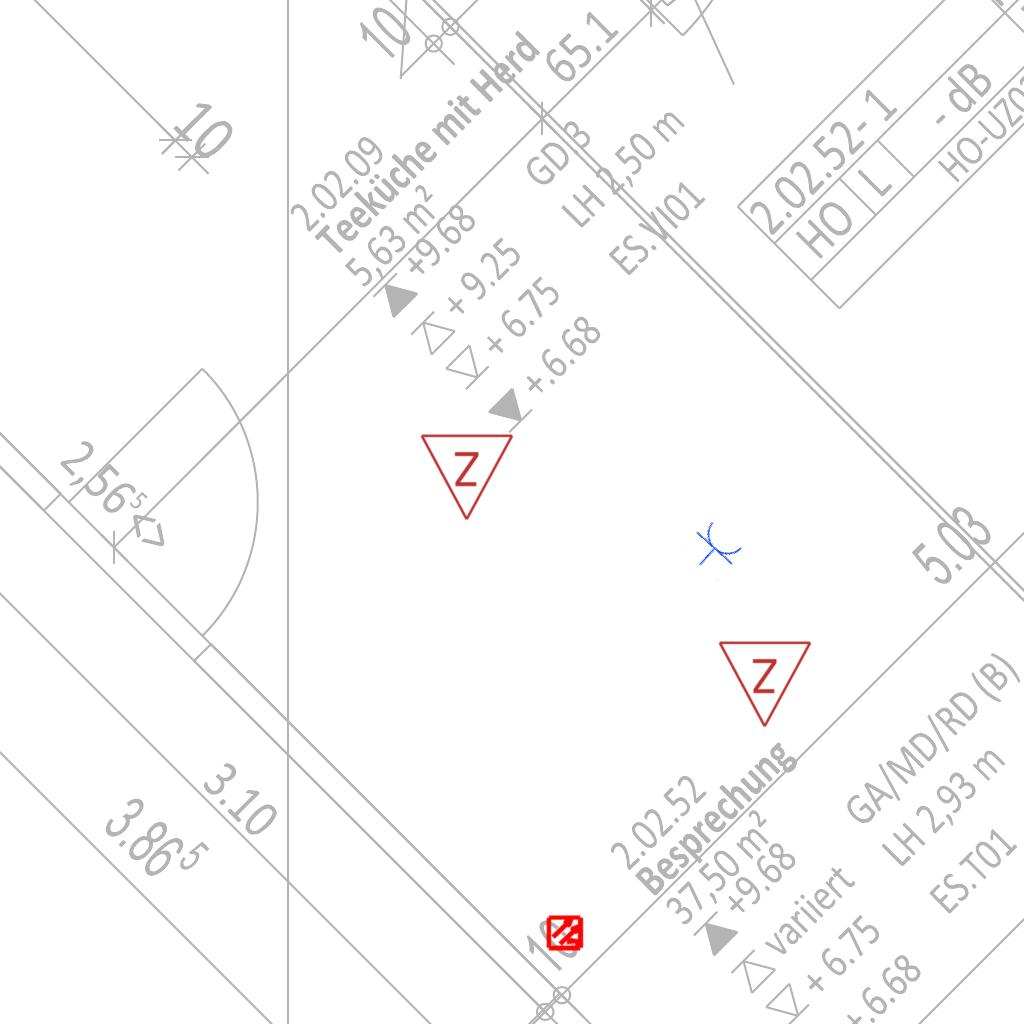OT_Multisensormelder_(Kombination_RMO_WMD): (538, 905, 594, 961)
Schukosteckdose_einfach: (681, 516, 747, 583)
Zimmersignalleuchte: (419, 427, 517, 527), (717, 634, 815, 734)
